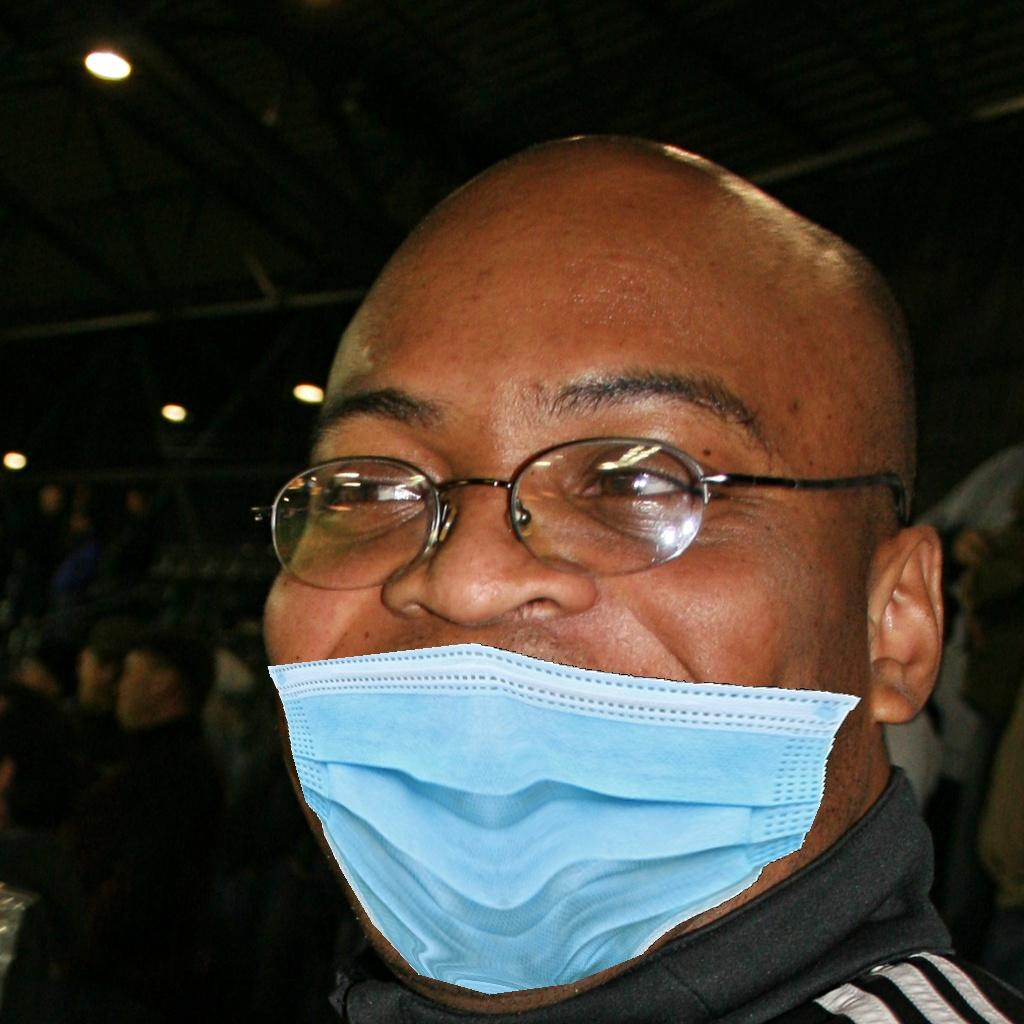Máscara Incorreta: (276, 155, 829, 967)
